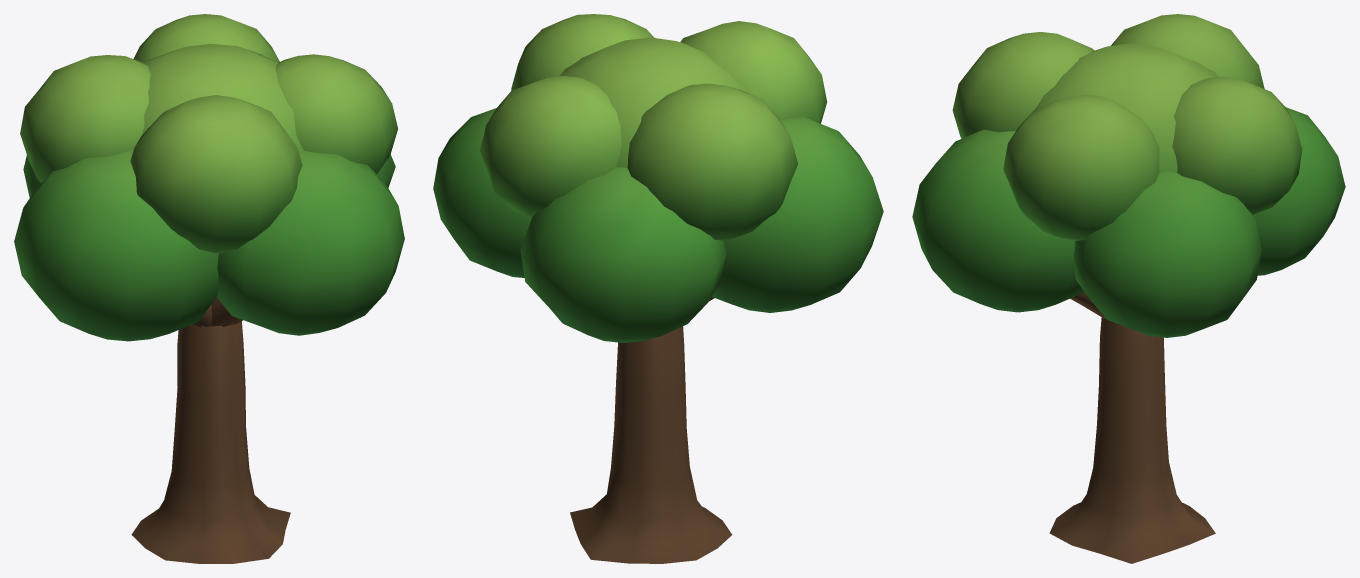
The model's file is copac_mare.glb.
3 views of the same model, side by side, from view 1: azimuth 30°, elevation 25°; view 2: azimuth 150°, elevation 25°; view 3: azimuth 270°, elevation 25° (orthographic). The views are drawn at different scales.
Visible parts, largest first — view 1: copac_mare; view 2: copac_mare; view 3: copac_mare.
Boxes of the visible parts, x1,y1,x2,y2 form: copac_mare: (14,14,404,563); copac_mare: (433,14,883,563); copac_mare: (912,14,1345,563).
Bounding box in the file's own units: 3.83 × 4.56 × 3.82.
